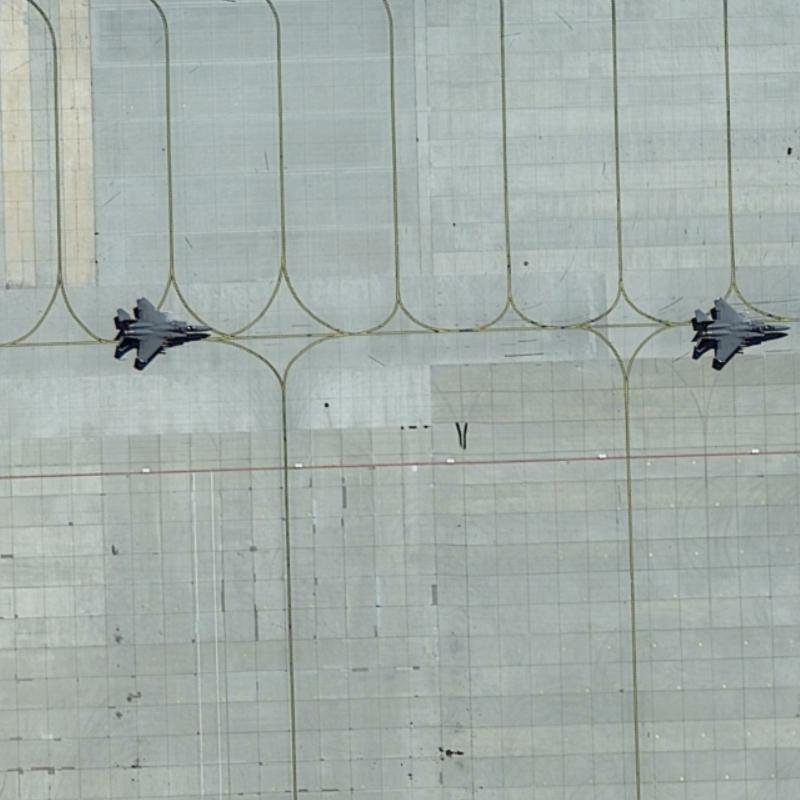A13: (682, 284, 793, 383), (107, 287, 218, 383)
